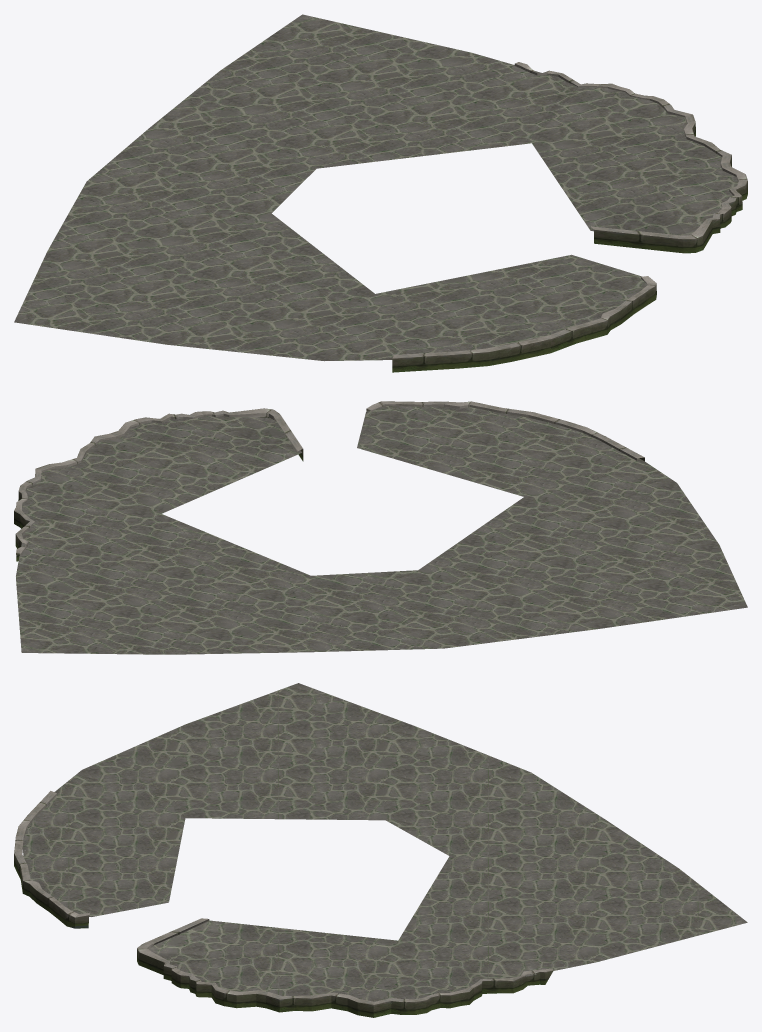
Rendered from xsz_diban_3.FBX.
The picture shows the model from 3 angles, top to bottom: view 1: azimuth 30°, elevation 25°; view 2: azimuth 150°, elevation 25°; view 3: azimuth 270°, elevation 25°; orthographic projection. The views are drawn at different scales.
Parts seen in each view (by area): view 1: xsz_diban_3; view 2: xsz_diban_3; view 3: xsz_diban_3.
Part boxes in pixels (x1,y1,x2,y2): xsz_diban_3: (14, 14, 747, 372); xsz_diban_3: (14, 401, 747, 654); xsz_diban_3: (14, 683, 747, 1017).
Bounding box in the file's own units: 1696 × 35.21 × 1622.
